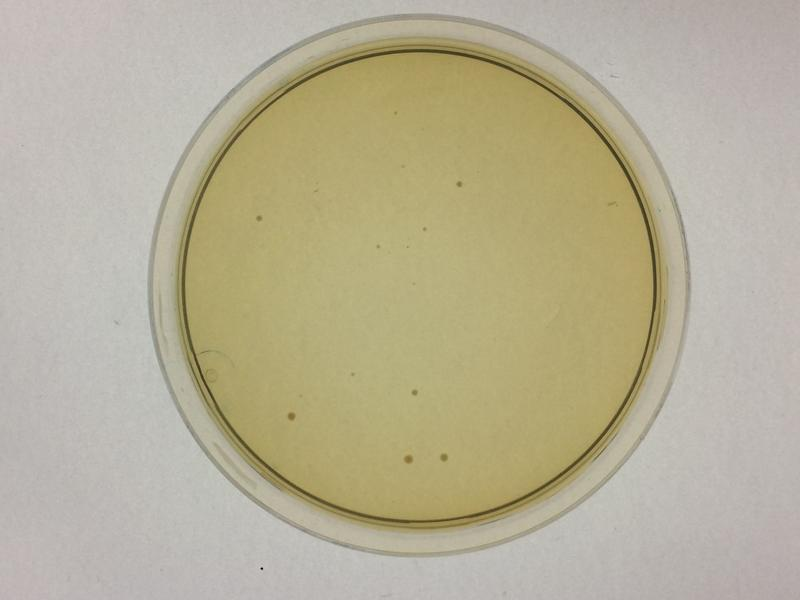colony: (284, 410, 300, 425), (437, 451, 454, 464), (401, 453, 416, 466), (454, 177, 468, 190), (253, 213, 266, 224), (409, 388, 420, 397)
